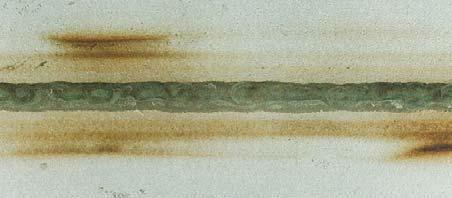soldas: (0, 34, 452, 160)
